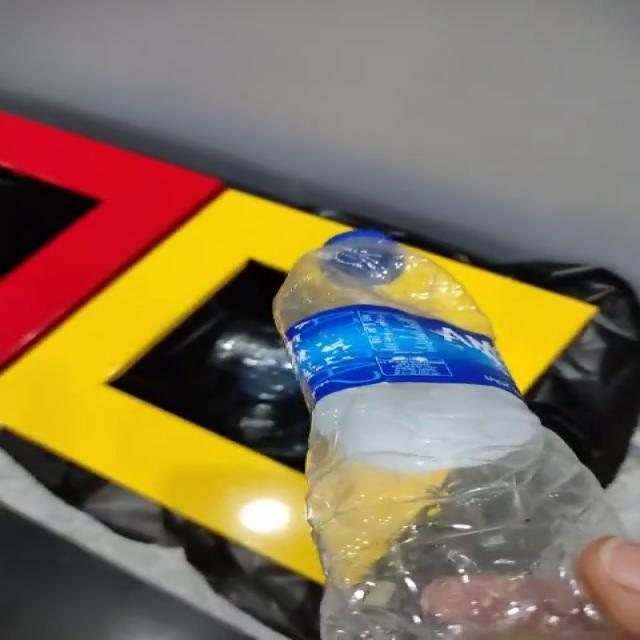Plastic: (273, 229, 623, 640)
